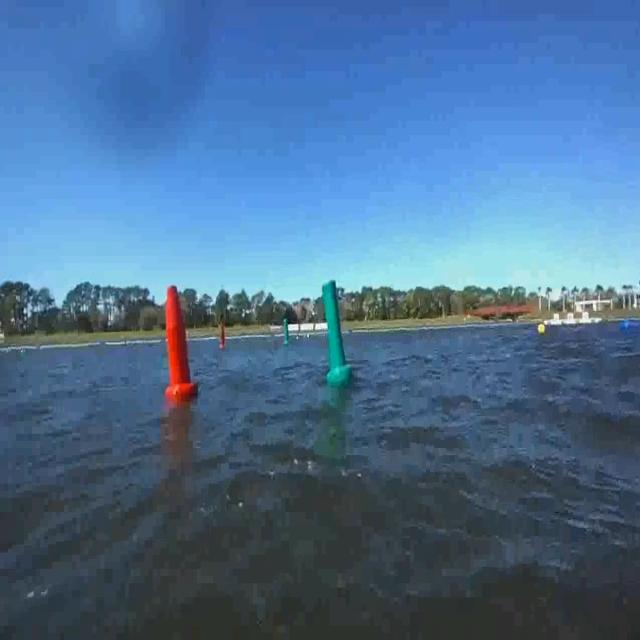blue-buoy: (622, 318, 634, 337)
green-column-buoy: (321, 279, 352, 386), (283, 318, 291, 346)
red-column-buoy: (165, 286, 198, 402), (219, 322, 227, 349)
yellow-buoy: (537, 321, 546, 336)
